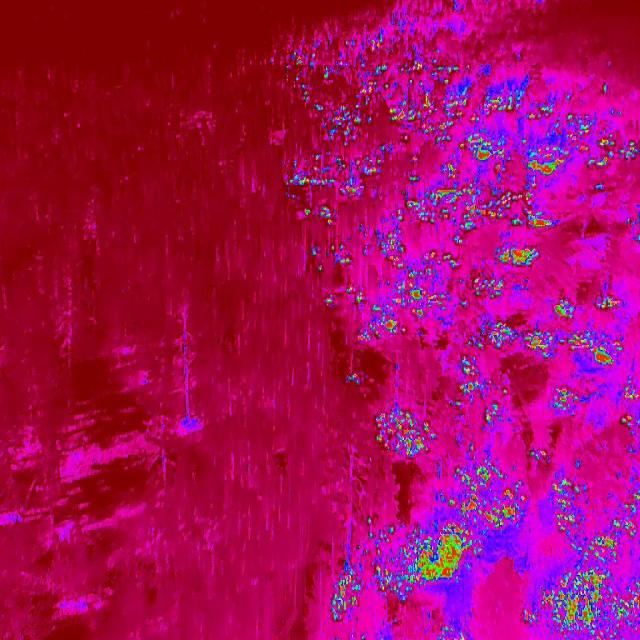fire: (284, 15, 474, 154), (466, 270, 624, 370), (472, 89, 640, 180), (310, 243, 456, 343), (398, 165, 563, 244), (524, 531, 640, 640), (358, 523, 482, 603), (284, 156, 396, 233), (450, 462, 530, 536), (370, 404, 442, 464), (456, 355, 510, 427), (546, 469, 586, 530), (332, 564, 366, 624), (542, 380, 596, 416), (488, 240, 542, 270), (611, 490, 640, 540), (619, 380, 640, 430), (526, 444, 556, 471), (342, 364, 364, 388), (438, 626, 468, 640)
